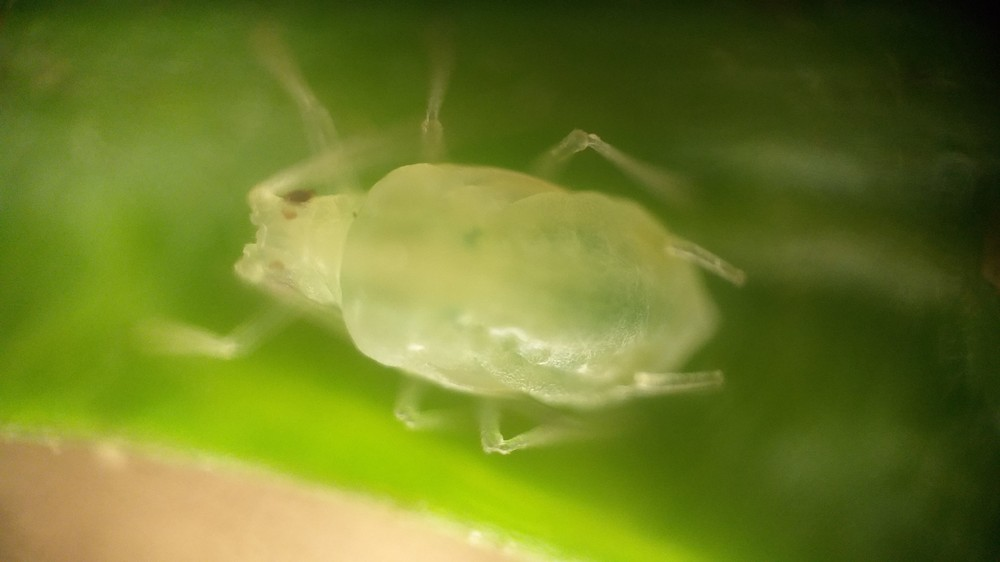Pulgon: (138, 15, 805, 493)
